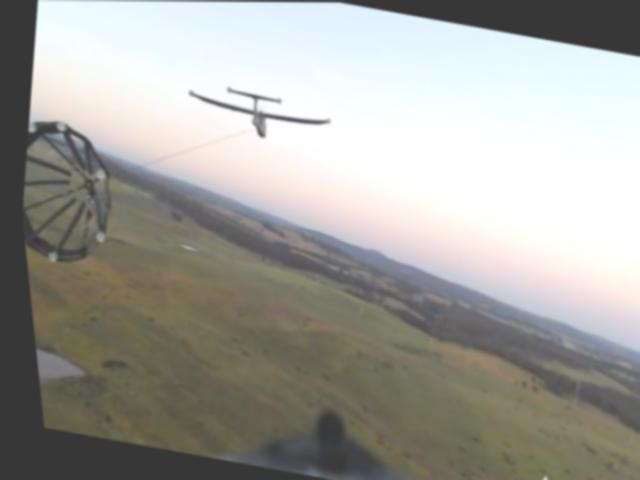uav: (176, 70, 336, 150)
